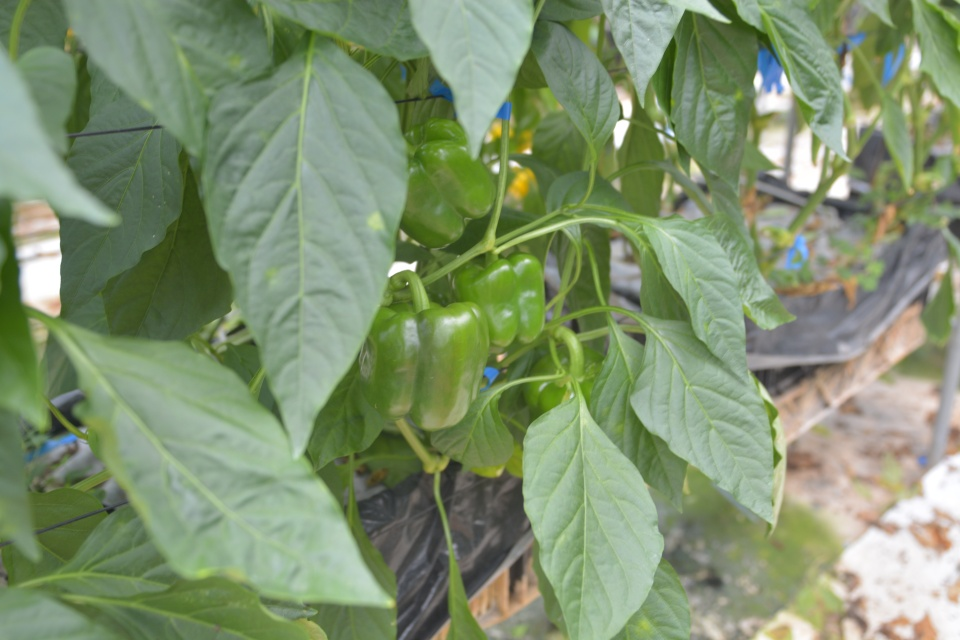fruit: (358, 298, 492, 434), (396, 117, 499, 251), (450, 248, 547, 348), (521, 341, 609, 418)
